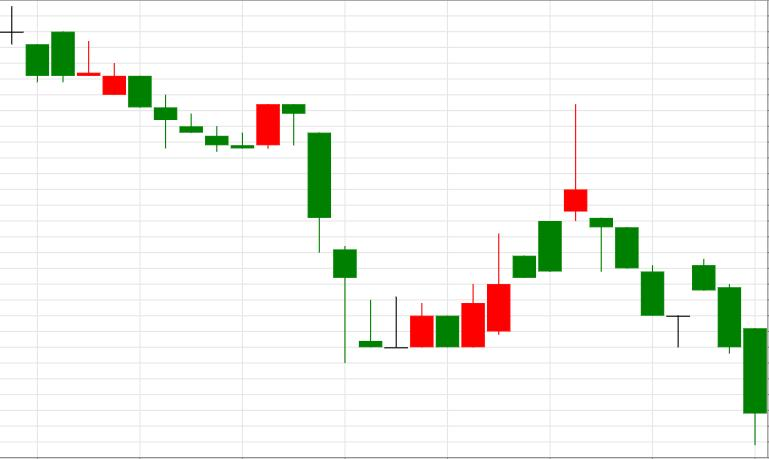shooting_star_fall: (411, 105, 587, 348)
